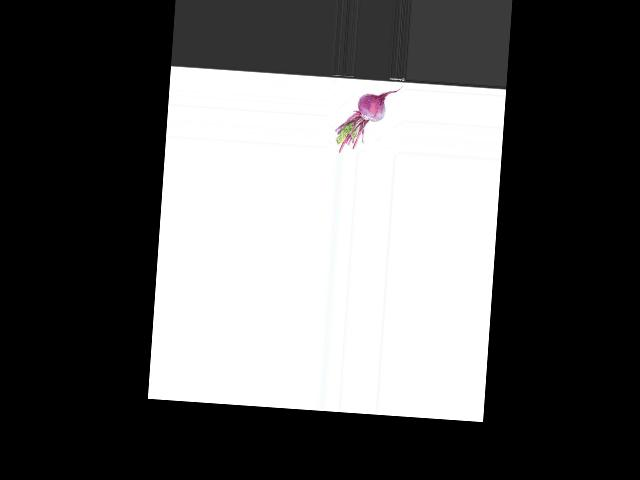beet: (333, 81, 402, 157)
